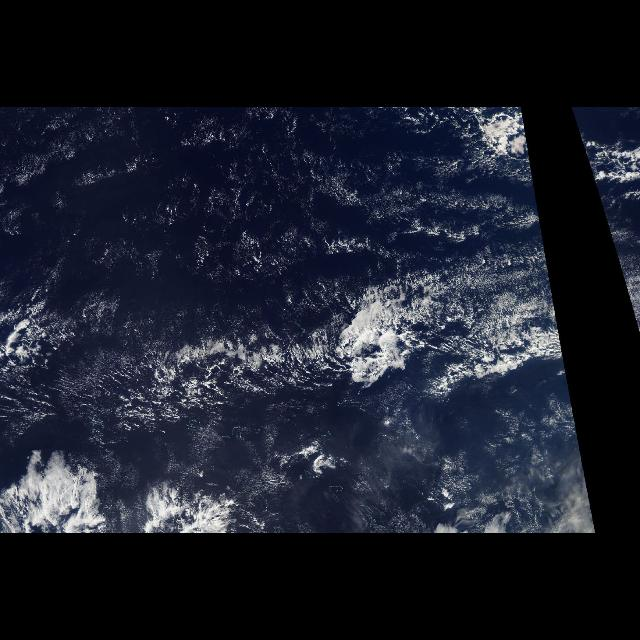Fish: (122, 287, 578, 427)
Gravel: (87, 332, 257, 434)
Sugar: (171, 151, 449, 273)
